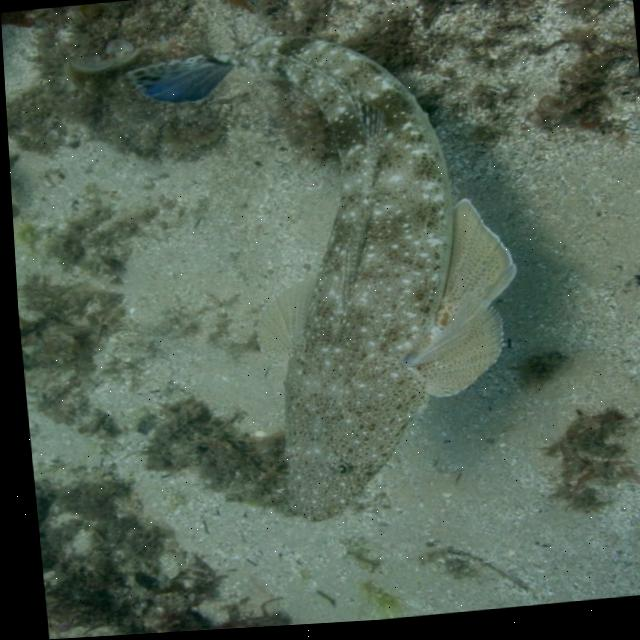Flathead: (109, 7, 549, 544)
